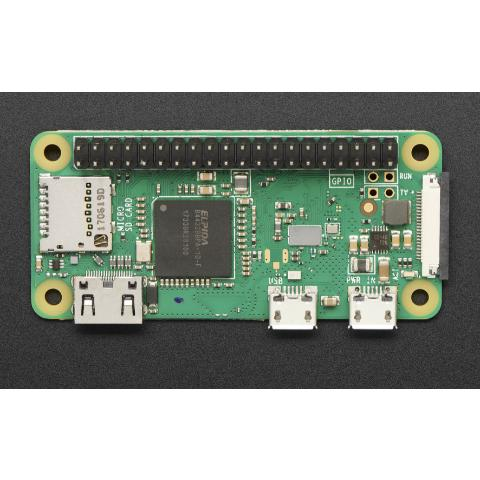Raspberry-Pi-Zero-WH: (29, 129, 451, 331)
